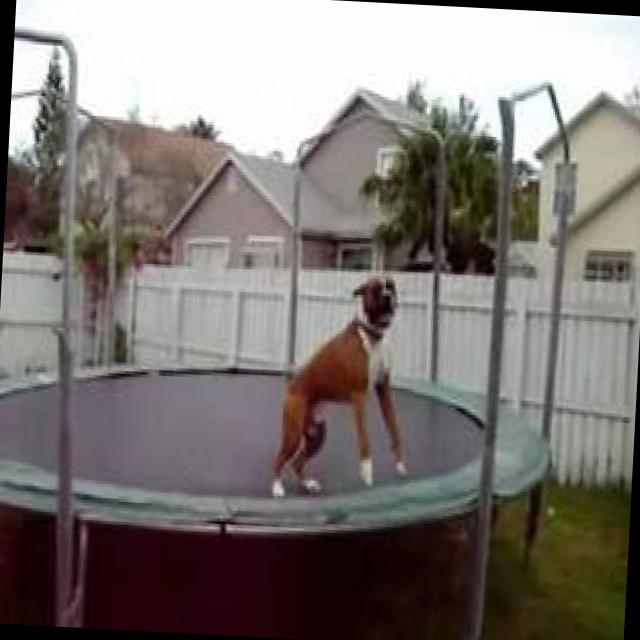animal: (219, 242, 428, 570)
